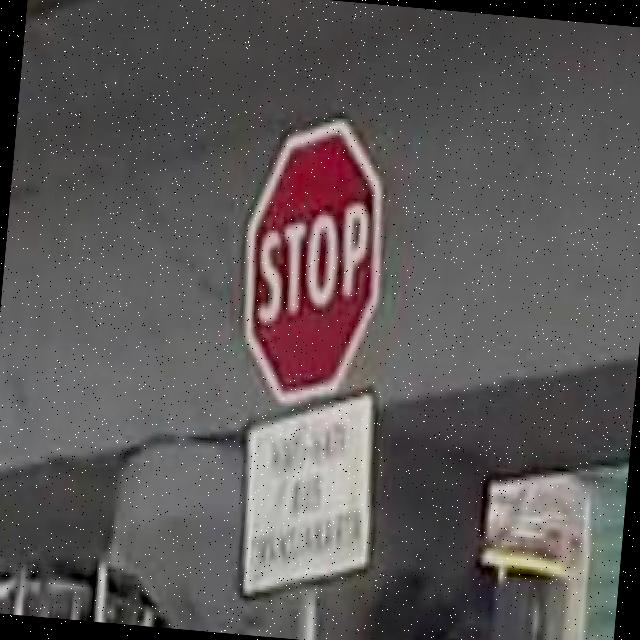Stop: (234, 116, 389, 392)
